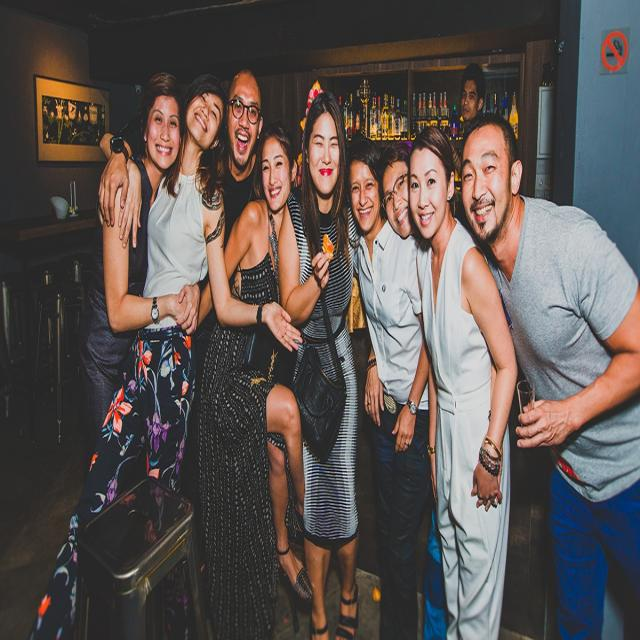body: (25, 71, 308, 639), (457, 118, 640, 639), (196, 109, 322, 622), (406, 121, 518, 639), (74, 71, 200, 497), (342, 131, 436, 639), (95, 63, 269, 337), (276, 90, 362, 640), (381, 137, 450, 640), (447, 58, 498, 116)
